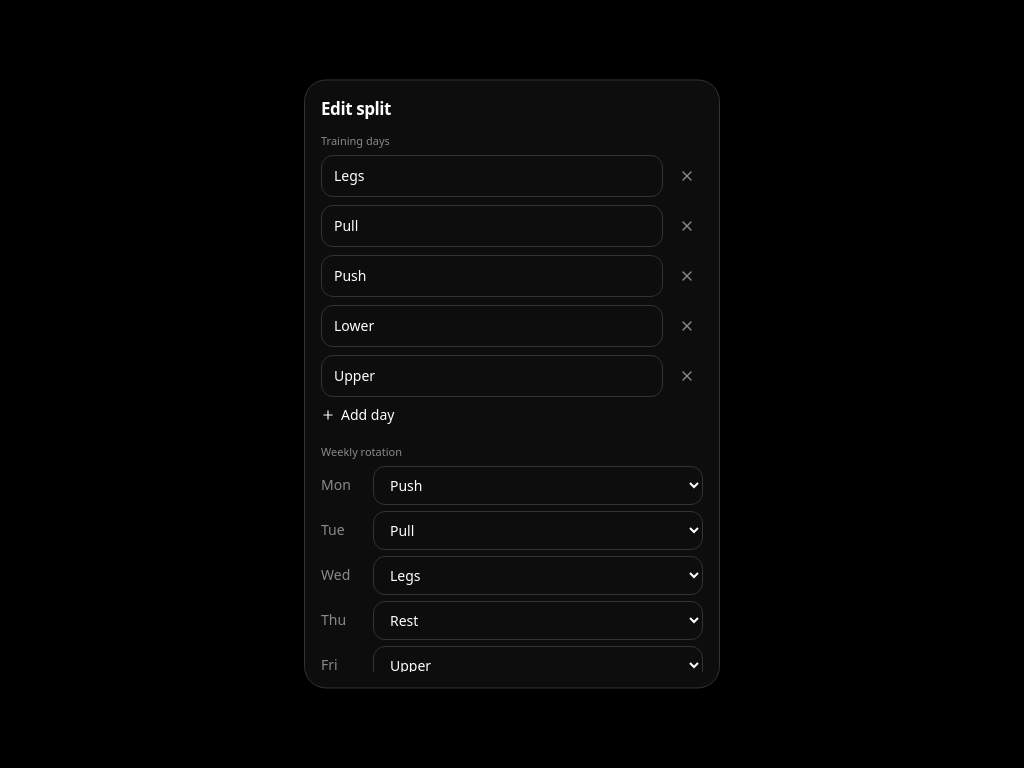
SplitEditorSheet › blocks saving when a day has a blank name
Clear the field named "Name for day 1". click: point(492, 176)
box: [321,155,663,197]
(page scrolled)
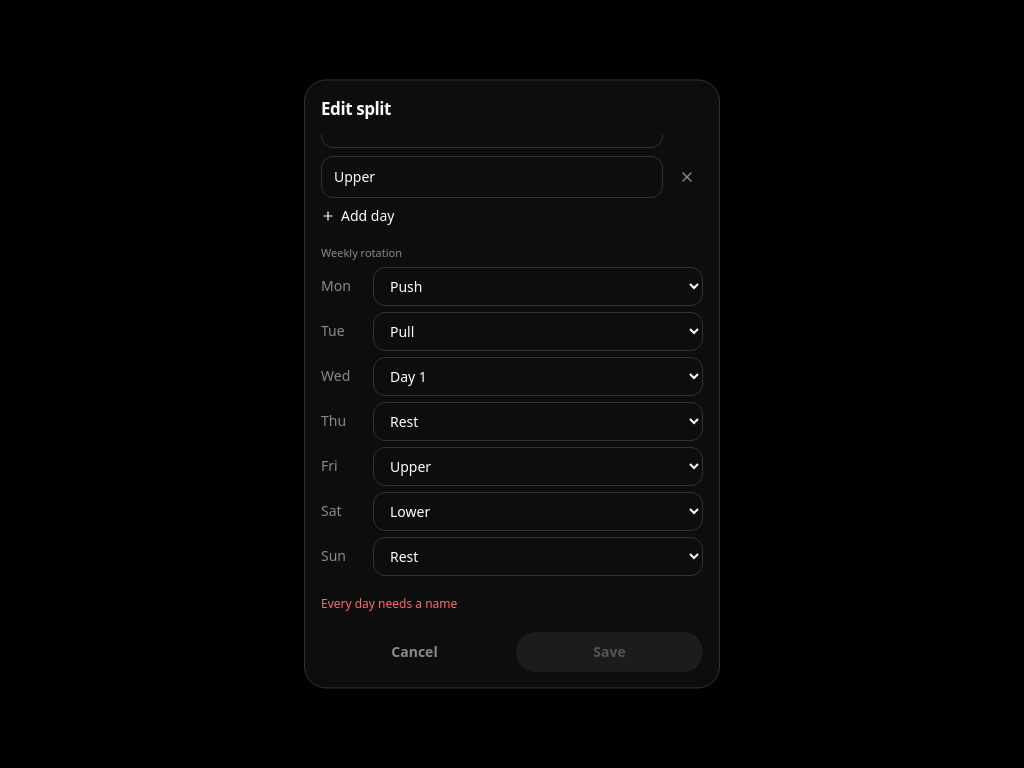
Expected: the button "Save" is disabled, [516,632,703,672]
Expected: the message reads "Every day needs a name", [321,595,457,612]
